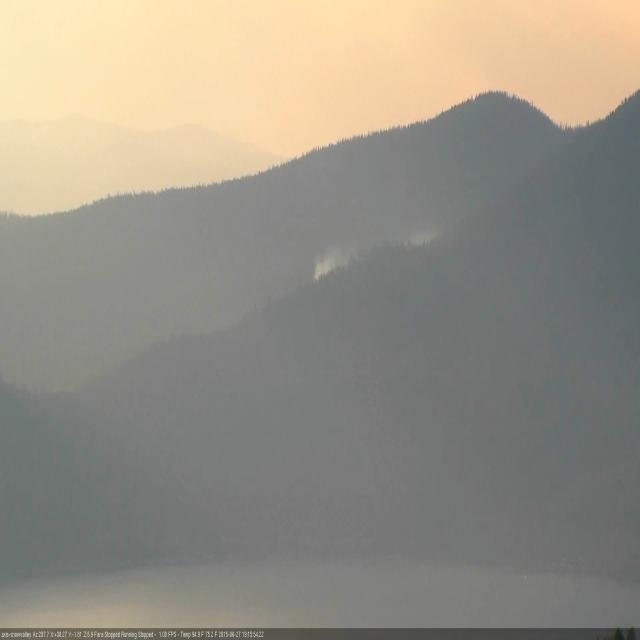smoke: (315, 241, 348, 280)
